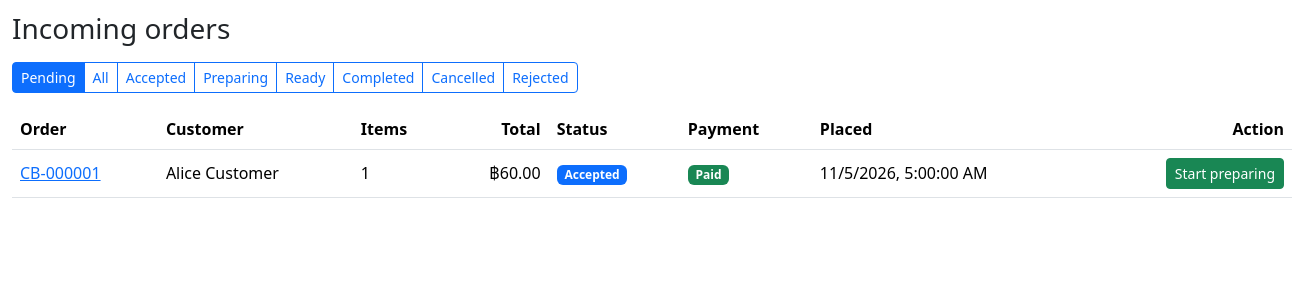
it: OperatorOrders fulfilment actions (AC-86) › TEST-86: a 500 shows a generic alert and keeps the button
The image size is (1292, 289).
Click the button "Start preparing" at (1225, 173), box [1166,158,1284,189]
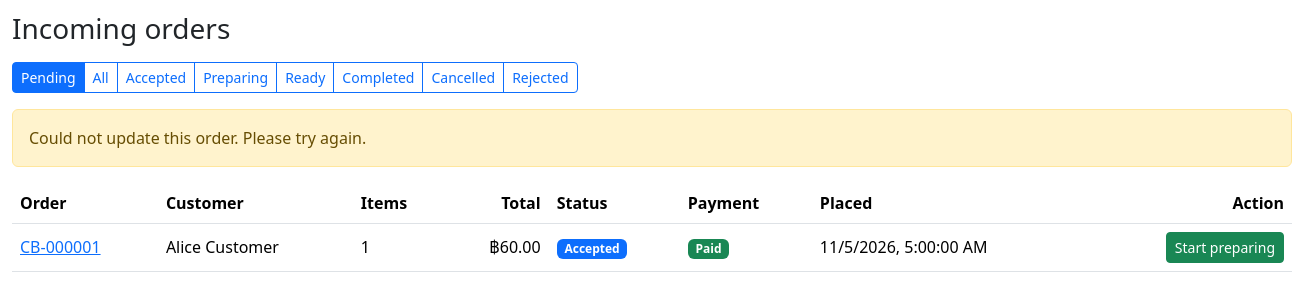
Check: the button "Start preparing" is enabled, box [1166,232,1284,263]
Check: the message reads "Could not update this order. Please try again.", box [29,127,366,149]
